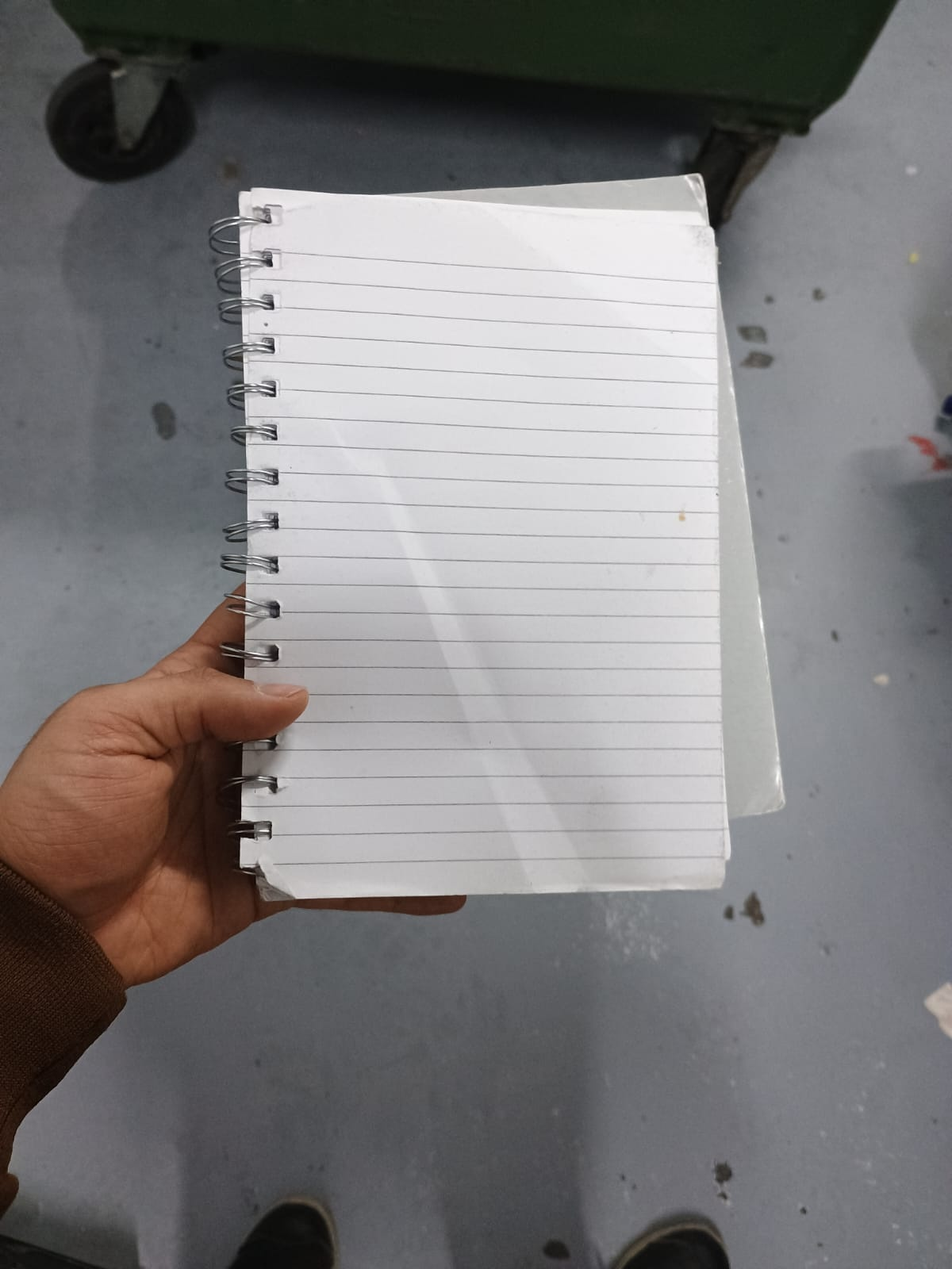Papel: (241, 168, 790, 904)
